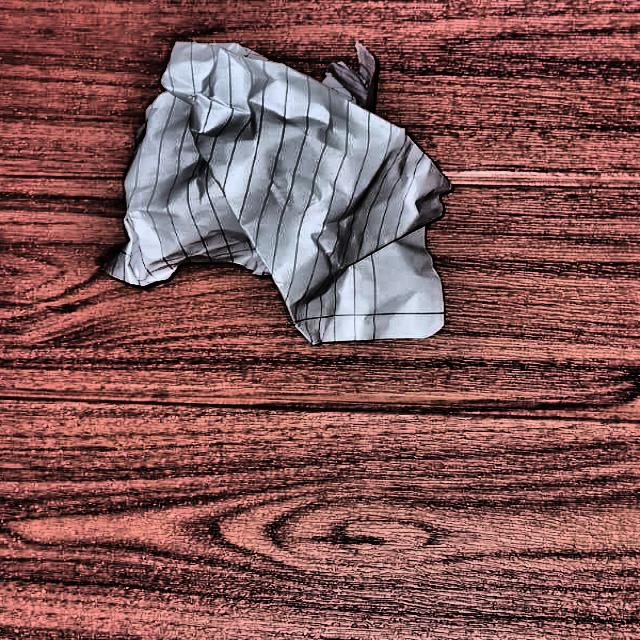paper: (97, 30, 443, 342)
